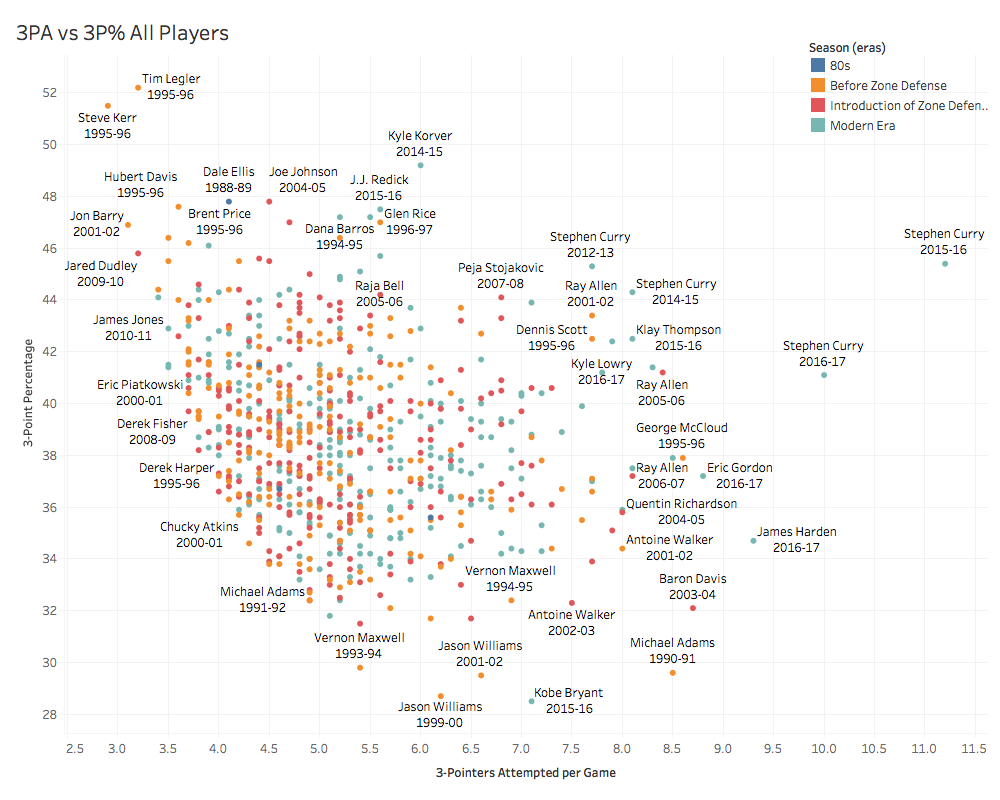

This screenshot's page, from the dashboard's own definition file:
{"tool":"tableau","page":{"name":"Dashboard Scatter - all","canvas":[1000,800],"ordinal":4},"visuals":[{"type":"worksheet","title":"3PA vs 3P% All Players","mark":"Automatic","rows":["Calculation_164592519228686337"],"cols":["3PA_per_G"],"box":[8,8,984,784]},{"type":"legend","title":"3PA vs 3P% All Players","param":"[federated.17a09wr06ypdr610gk5lw0ynw3zw].[Season (group)]","box":[804,33,191,121]}]}

Visuals, with their boxes in screenshot pixels (x1, y1, x2, y2), scaled from the page's 1000x800 canvas onto the 1000x800 screenshot:
"3PA vs 3P% All Players" worksheet: region(8, 8, 992, 792)
"3PA vs 3P% All Players" legend: region(804, 33, 995, 154)
